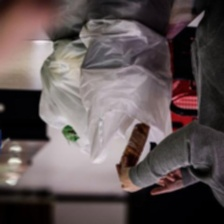plastic_bag: (74, 12, 185, 171), (35, 32, 109, 162)
